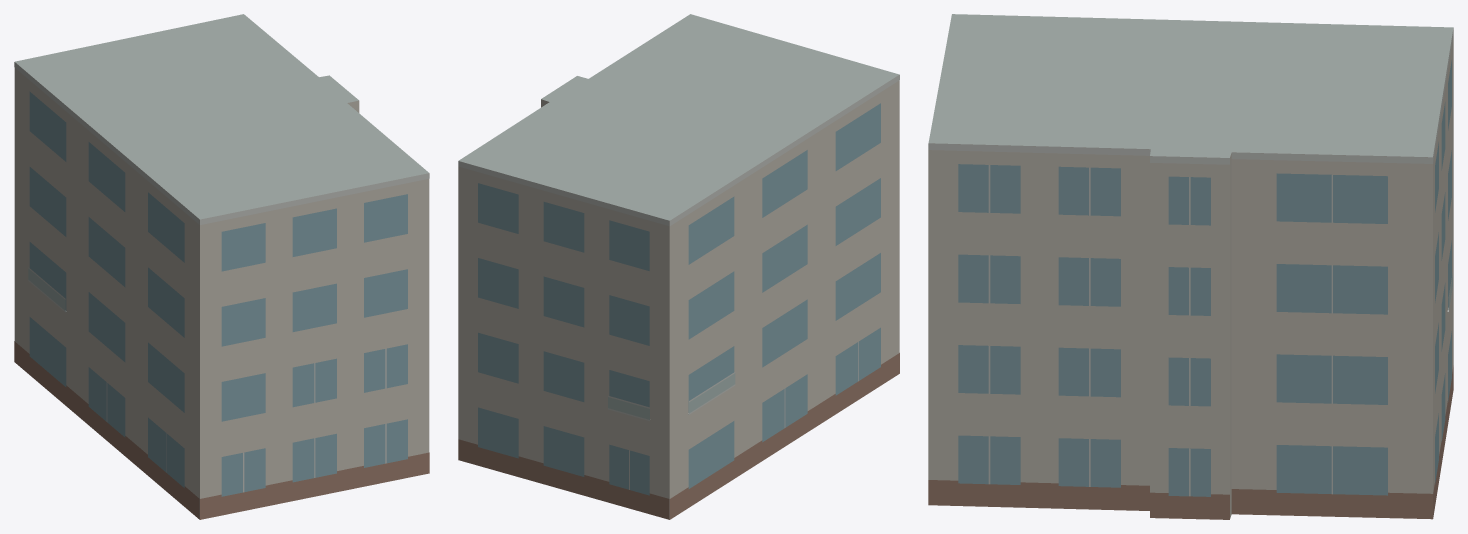
The model's file is survey-upis-32963108.glb.
3 renders of one model, left to right at view 1: azimuth 30°, elevation 25°; view 2: azimuth 150°, elevation 25°; view 3: azimuth 270°, elevation 25°, orthographic. The views are drawn at different scales.
Visible parts, largest first — view 1: survey-upis-32963108.tmp; view 2: survey-upis-32963108.tmp; view 3: survey-upis-32963108.tmp.
Part boxes in pixels (bbox=[...]): survey-upis-32963108.tmp: bbox=[14, 14, 429, 519]; survey-upis-32963108.tmp: bbox=[458, 14, 899, 519]; survey-upis-32963108.tmp: bbox=[928, 14, 1453, 519].
Size of the model in its own units: 11.11 by 13 by 17.11.
